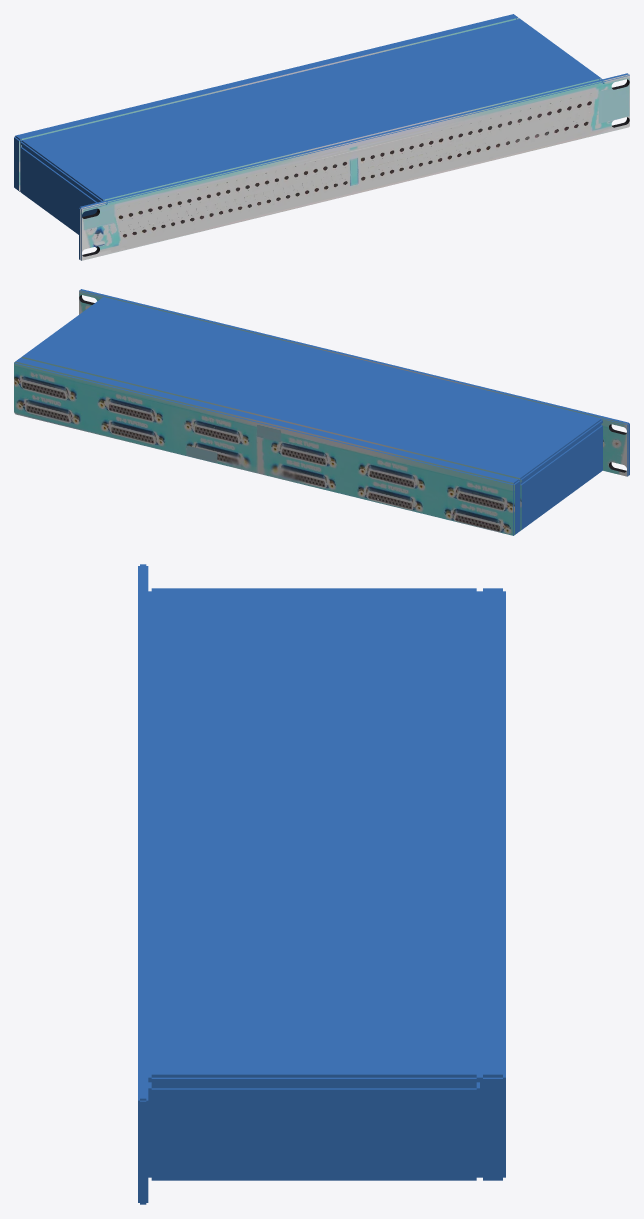
The model's file is switchcraft-studiopatch-9625.glb.
3 views of the same model, one above another, from view 1: azimuth 30°, elevation 25°; view 2: azimuth 150°, elevation 25°; view 3: azimuth 270°, elevation 25° (orthographic). The views are drawn at different scales.
Visible parts, largest first — view 1: switchcraft-studiopatch-9625-body; view 2: switchcraft-studiopatch-9625-body; view 3: switchcraft-studiopatch-9625-body.
Boxes of the visible parts, x1=… form: switchcraft-studiopatch-9625-body: x1=14, y1=14, x2=629, y2=260; switchcraft-studiopatch-9625-body: x1=14, y1=289, x2=629, y2=535; switchcraft-studiopatch-9625-body: x1=138, y1=564, x2=505, y2=1204.
Bounding box in the file's own units: 0.4826 × 0.0445 × 0.14.
1 material, 1 textured.
